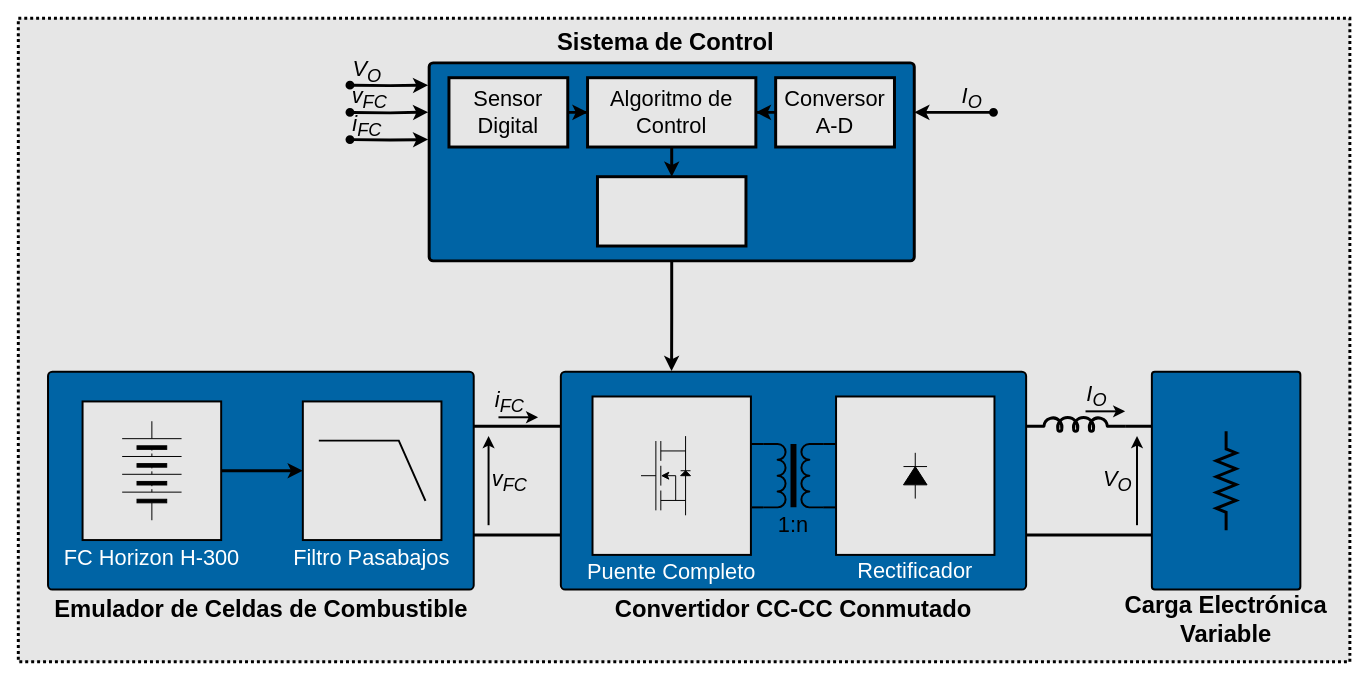
Image size: 1368x680. Some labels were removed from this diagram. Here are the shapes that lost their labels. From the top down, the box of each, then its label:
(595, 175, 747, 247): ePWM
(1024, 415, 1126, 432): L O
